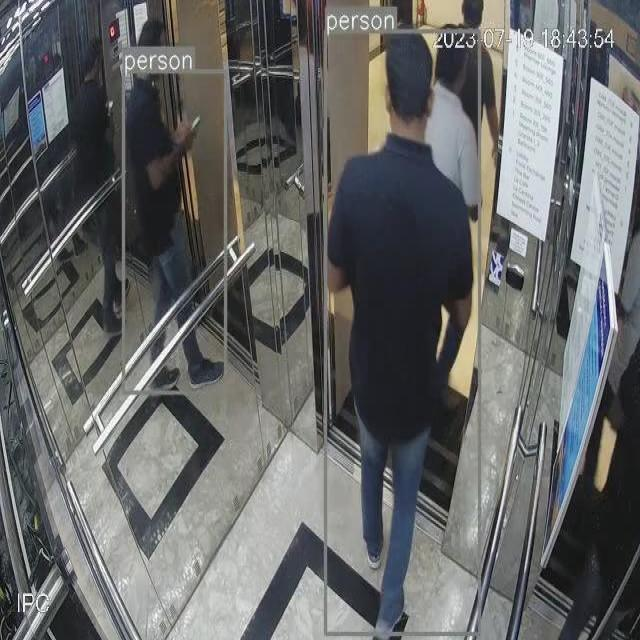person: (329, 34, 480, 626), (129, 72, 223, 409), (426, 23, 483, 236)
